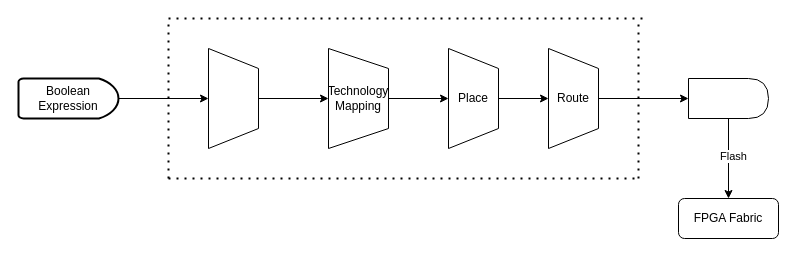
Some shapes in this 796 by 256 pixel diagram are drawn without their labels. The shapes that lost their labels are listed below. From the top down, each one's centre as x and y in pixels, then its label:
At (233,98): "Logical Synthesis".
At (728,98): "Bitstream Generation".
